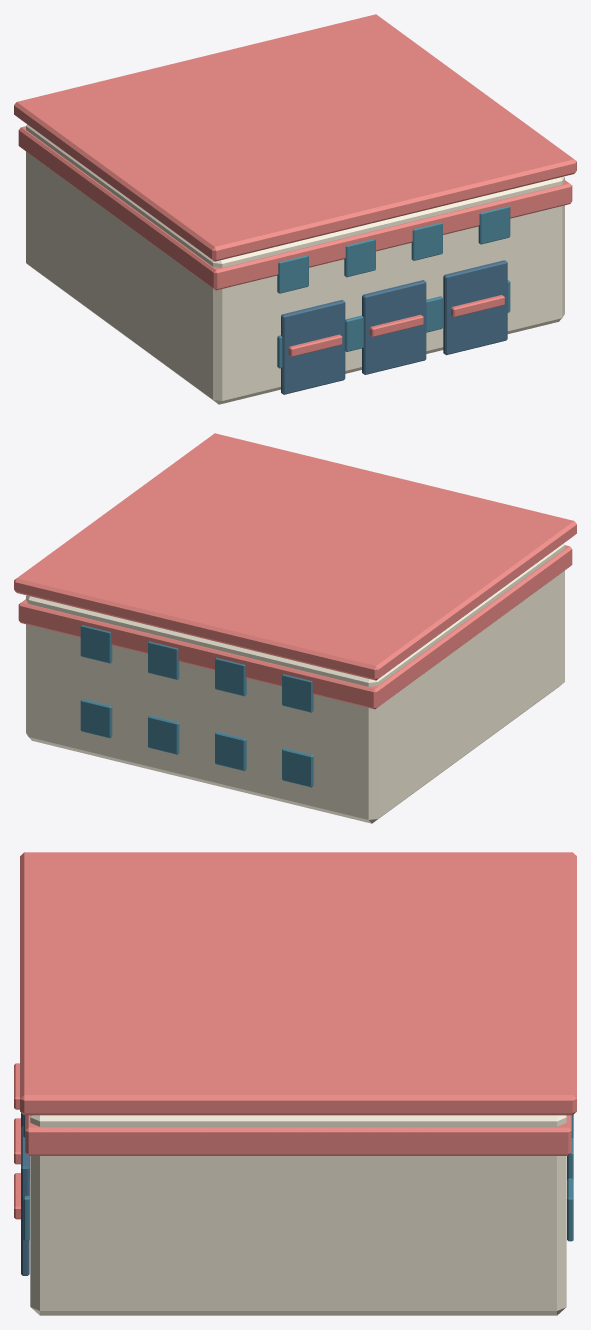
The model's file is CIV_FIRE_2x2_001.glb.
3 renders of one model, top to bottom at view 1: azimuth 30°, elevation 25°; view 2: azimuth 150°, elevation 25°; view 3: azimuth 270°, elevation 25°, orthographic. The views are drawn at different scales.
Parts seen in each view (by area): view 1: CIV_FIRE_2x2_001_Visual; view 2: CIV_FIRE_2x2_001_Visual; view 3: CIV_FIRE_2x2_001_Visual.
Boxes of the visible parts, x1,y1,x2,y2 form: CIV_FIRE_2x2_001_Visual: [14, 14, 576, 404]; CIV_FIRE_2x2_001_Visual: [14, 433, 576, 823]; CIV_FIRE_2x2_001_Visual: [14, 852, 576, 1315].
Size of what is drawn, in the model's own units: 3.37 by 1.45 by 3.25.
